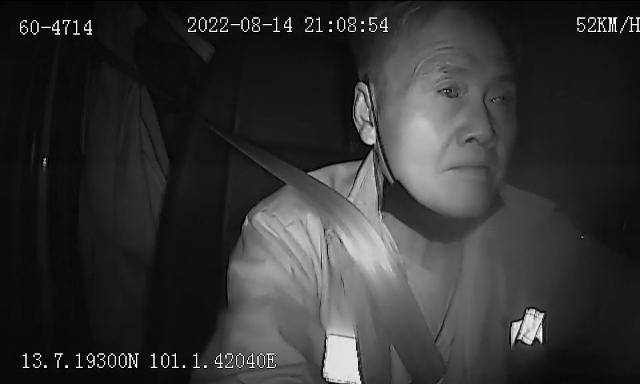SafeDriving: (432, 72, 468, 107), (481, 79, 516, 114)
Seatbelt: (233, 144, 451, 384)
